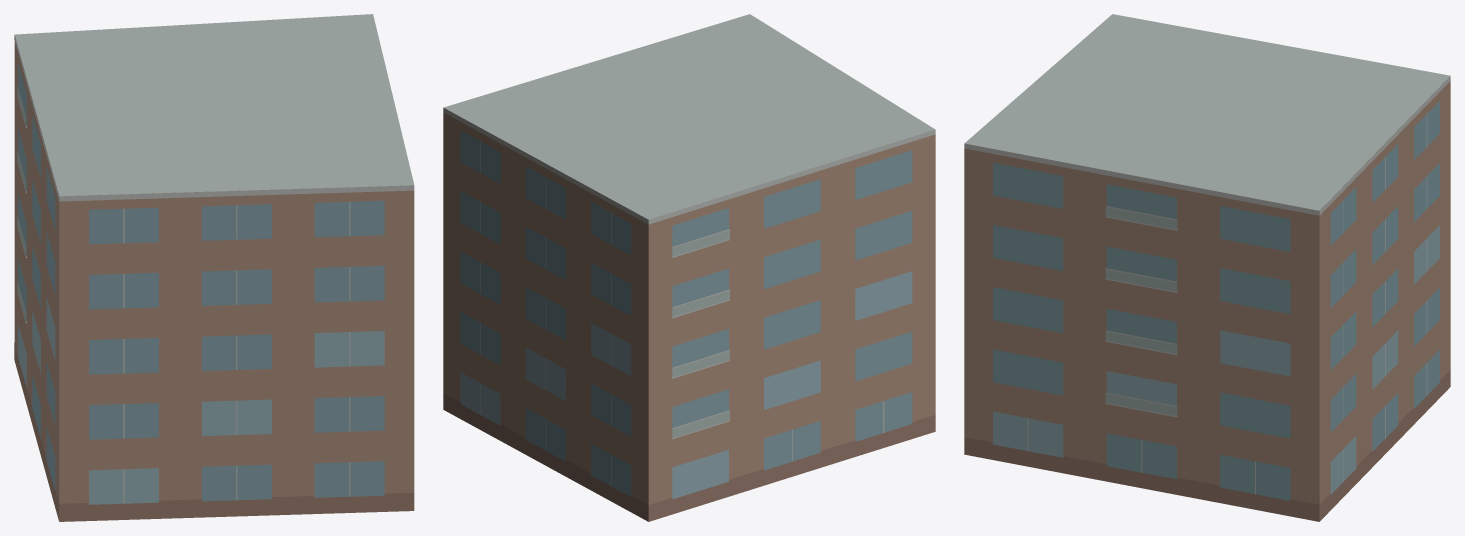
File: survey-upis-32531329.glb
3 views of the same model, side by side, from view 1: azimuth 30°, elevation 25°; view 2: azimuth 150°, elevation 25°; view 3: azimuth 270°, elevation 25° (orthographic). The views are drawn at different scales.
Parts seen in each view (by area): view 1: survey-upis-32531329.tmp; view 2: survey-upis-32531329.tmp; view 3: survey-upis-32531329.tmp.
Boxes of the visible parts, x1,y1,x2,y2 form: survey-upis-32531329.tmp: (14,14,414,521); survey-upis-32531329.tmp: (443,14,935,521); survey-upis-32531329.tmp: (964,14,1450,521).
Bounding box in the file's own units: 20.7 × 15.25 × 21.62.
